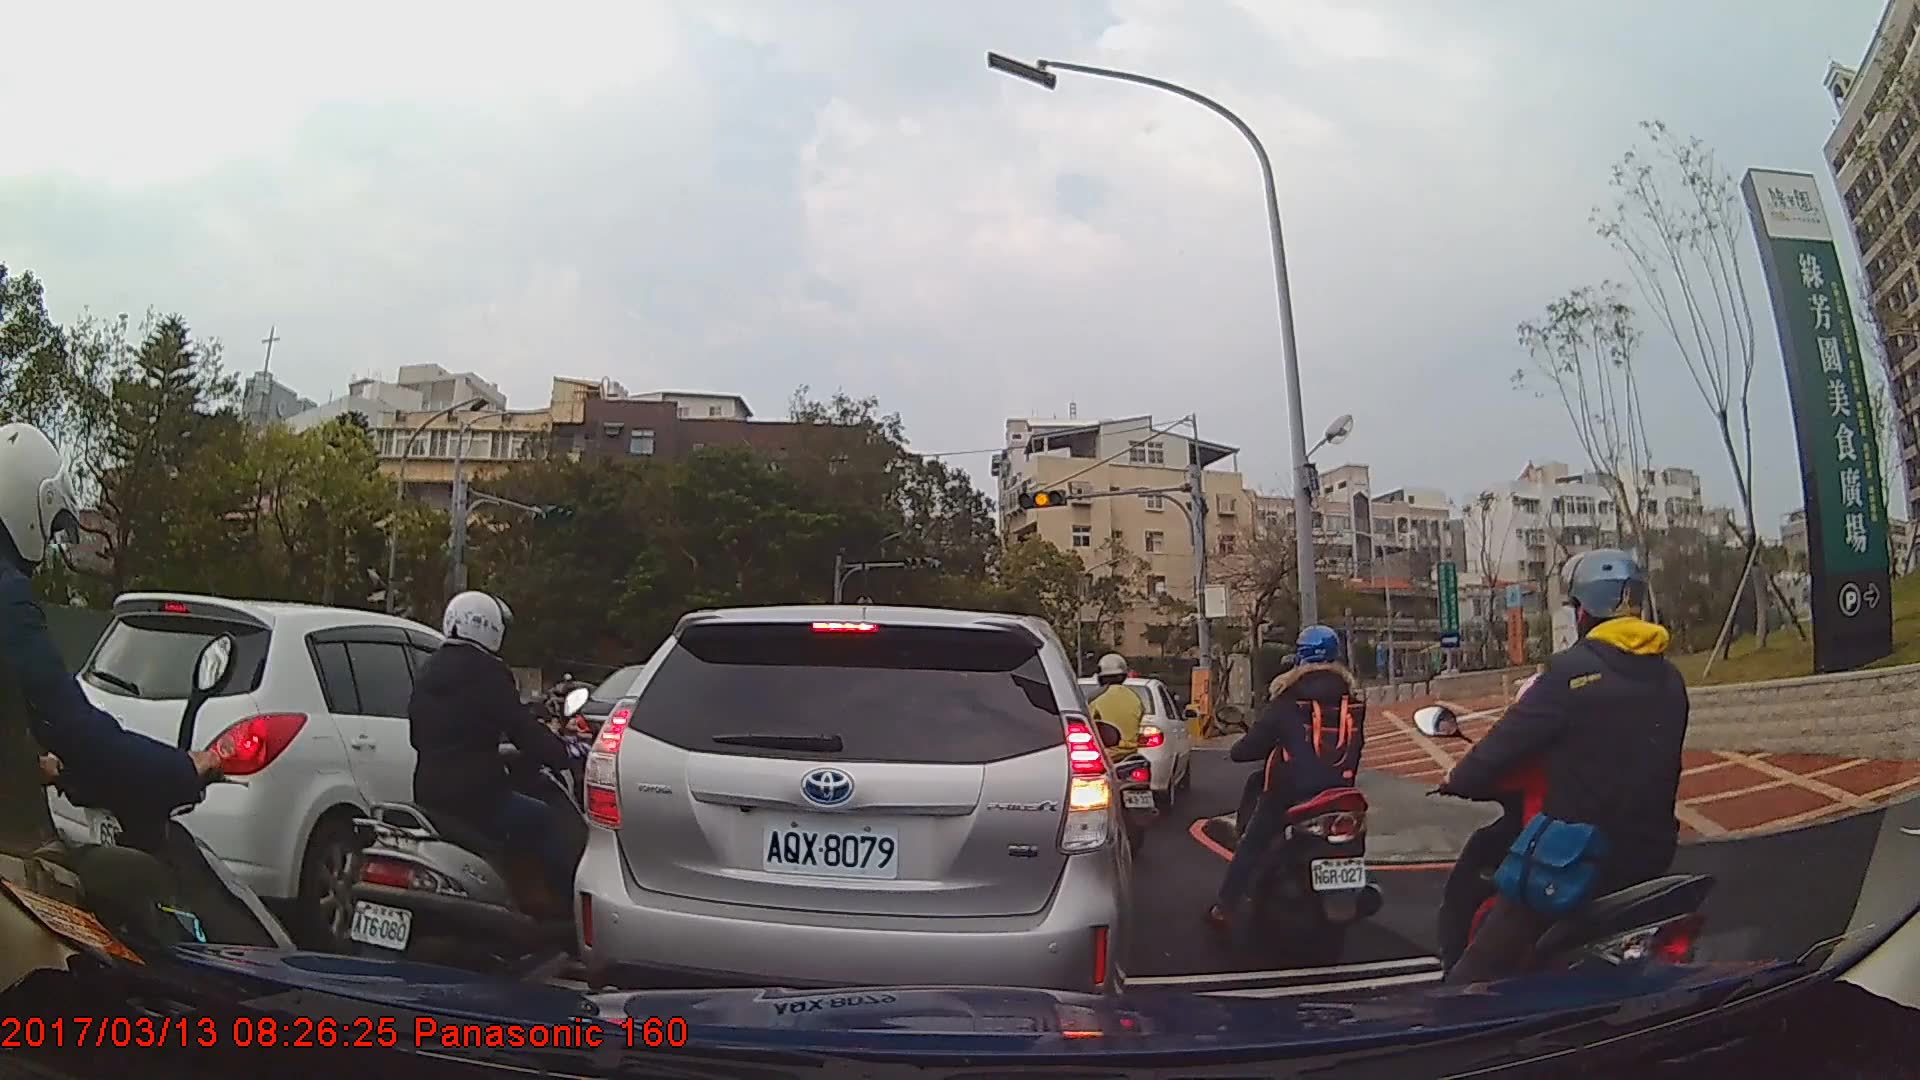rider: (1, 420, 309, 1079), (1422, 549, 1723, 1047), (349, 590, 613, 988), (1197, 619, 1396, 965), (1063, 651, 1158, 852)
vehicle: (568, 601, 1139, 1033), (42, 591, 573, 932), (562, 662, 781, 805)
